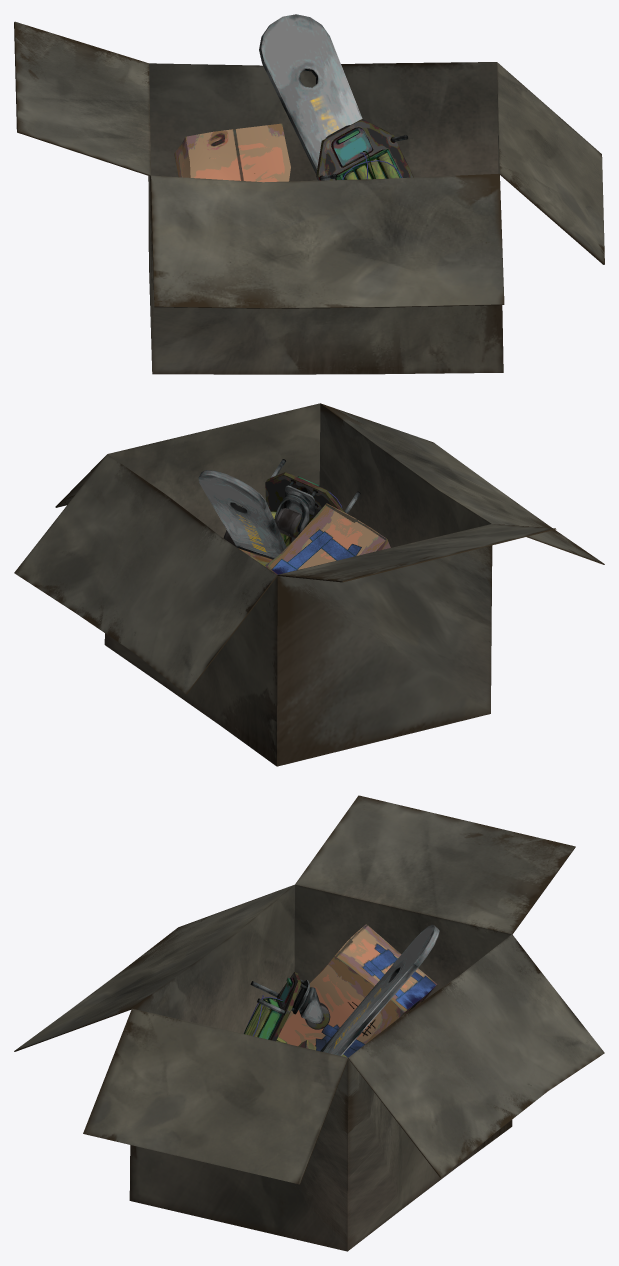
Rendered from Cardboard_Box_Open_Set.fbx.
3 views of the same model, one above another, from view 1: azimuth 30°, elevation 25°; view 2: azimuth 150°, elevation 25°; view 3: azimuth 270°, elevation 25° (orthographic). The views are drawn at different scales.
Parts seen in each view (by area): view 1: Cardboard Box open, RatSlayer.094, RatSlayer.090, RatSlayer_CarBase.003; view 2: Cardboard Box open, RatSlayer.094, RatSlayer.090, RatSlayer_CarBase.003; view 3: Cardboard Box open, RatSlayer.090, RatSlayer.094, RatSlayer_CarBase.003.
Boxes of the visible parts, x1=… form: Cardboard Box open: x1=14, y1=21, x2=604, y2=374; RatSlayer.094: x1=259, y1=14, x2=362, y2=174; RatSlayer.090: x1=174, y1=123, x2=290, y2=182; RatSlayer_CarBase.003: x1=316, y1=119, x2=413, y2=180; Cardboard Box open: x1=14, y1=403, x2=604, y2=766; RatSlayer.094: x1=198, y1=470, x2=286, y2=566; RatSlayer.090: x1=265, y1=503, x2=390, y2=574; RatSlayer_CarBase.003: x1=223, y1=459, x2=360, y2=546; Cardboard Box open: x1=14, y1=795, x2=604, y2=1251; RatSlayer.090: x1=278, y1=924, x2=437, y2=1057; RatSlayer.094: x1=298, y1=924, x2=439, y2=1057; RatSlayer_CarBase.003: x1=243, y1=972, x2=330, y2=1043.
Size of the model in its own units: 78.01 by 37.78 by 75.04.
